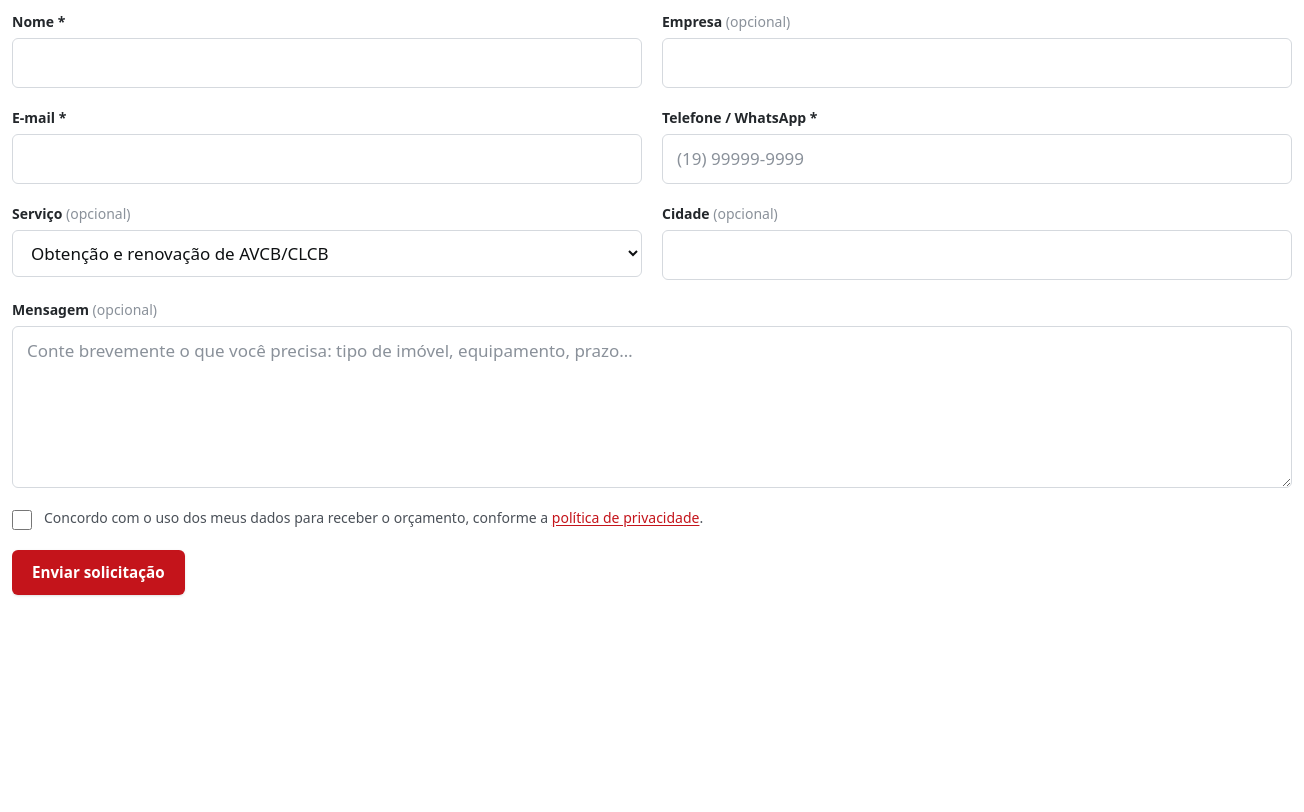
Scenario: QuoteForm › posts to Web3Forms and shows success
This screenshot has width=1304, height=812.
Type "Maria Silva" into the field labelled "Nome *" at (327, 63), box 12,38 -> 642,88
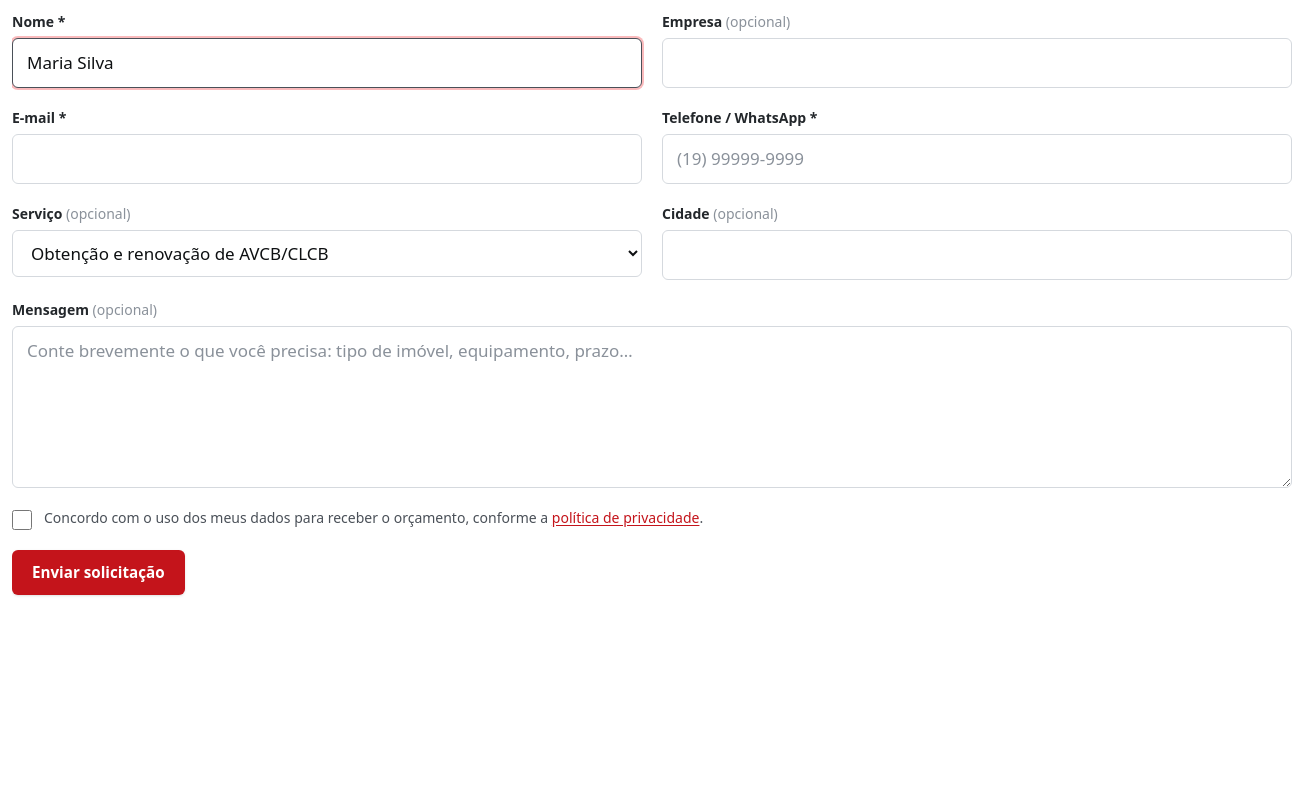
Type "maria@empresa.com.br" into the field labelled "E-mail *" at (327, 159), box 12,134 -> 642,184
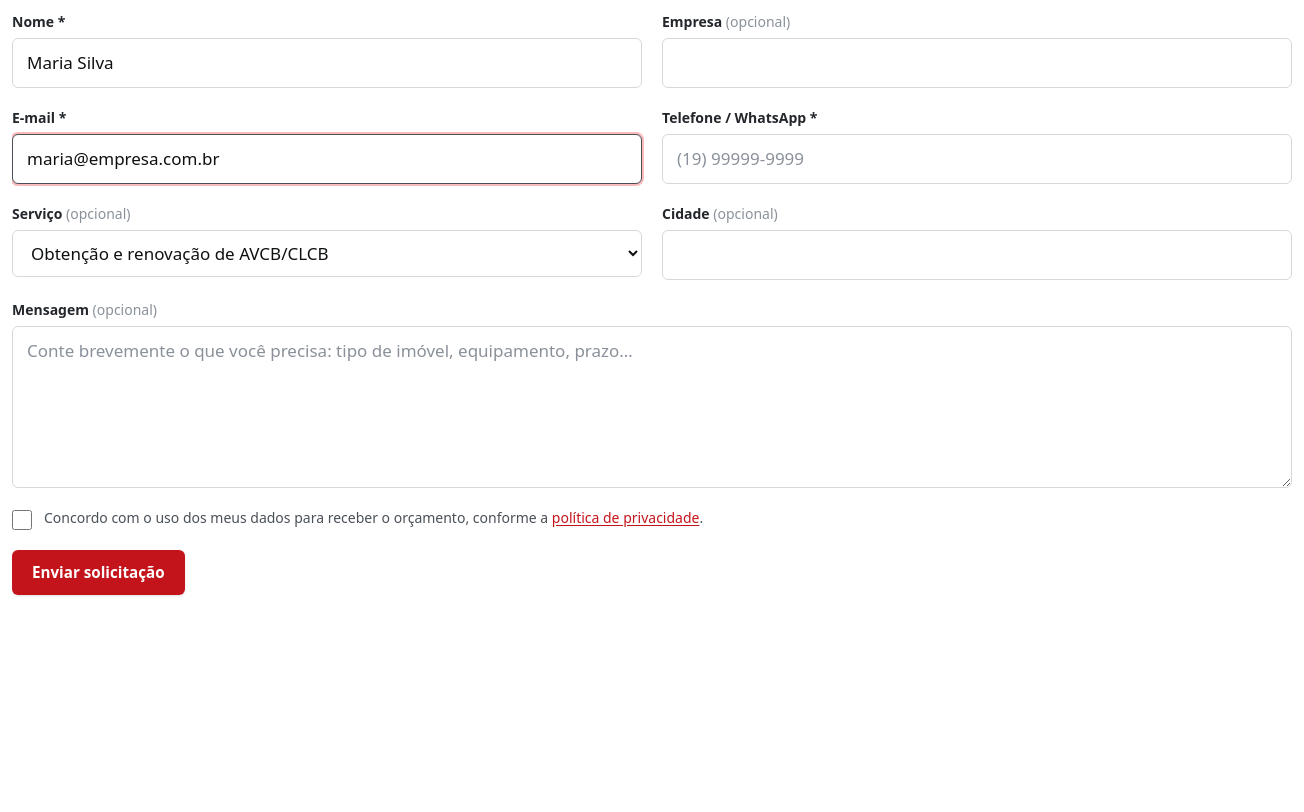
Type "(19) 99999-0000" into the field labelled "Telefone / WhatsApp *" at (977, 159), box 662,134 -> 1292,184
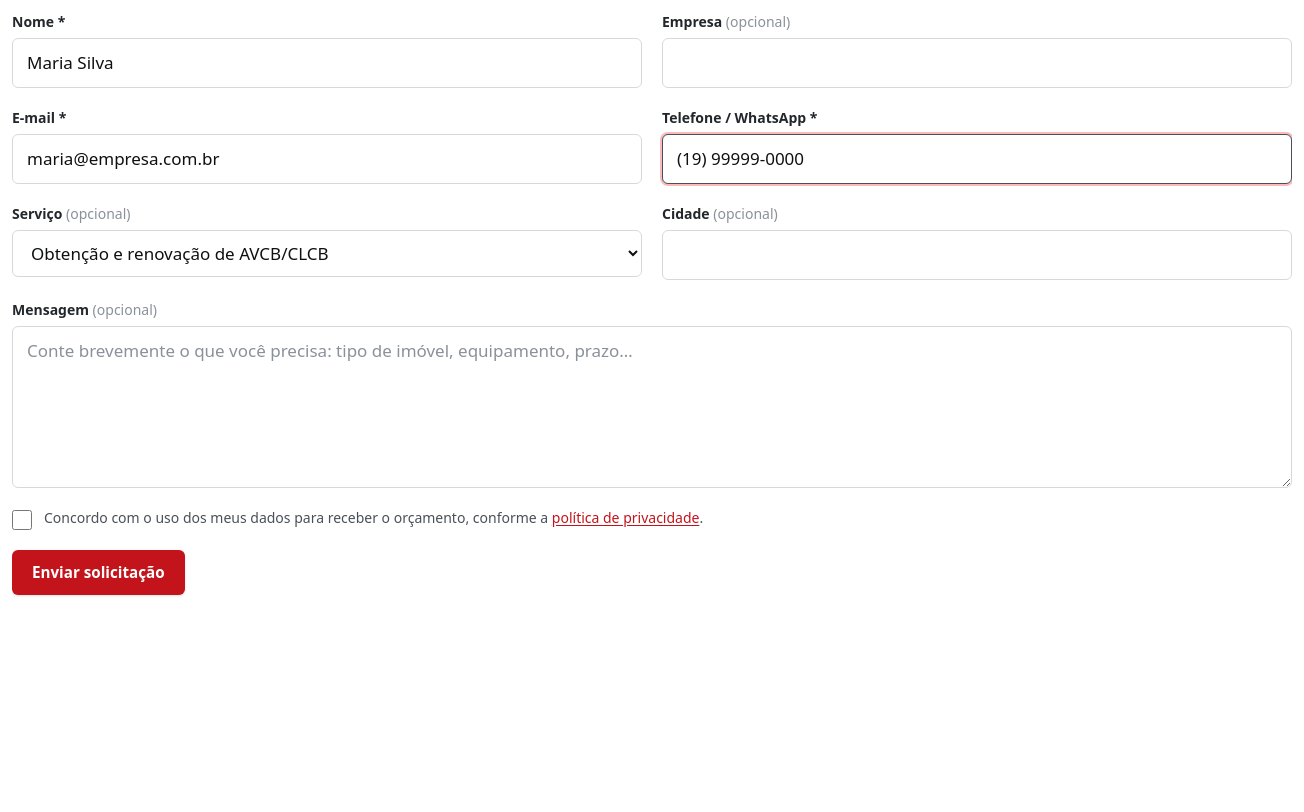
Click the checkbox labelled "Concordo" at (22, 520), box 12,510 -> 32,530
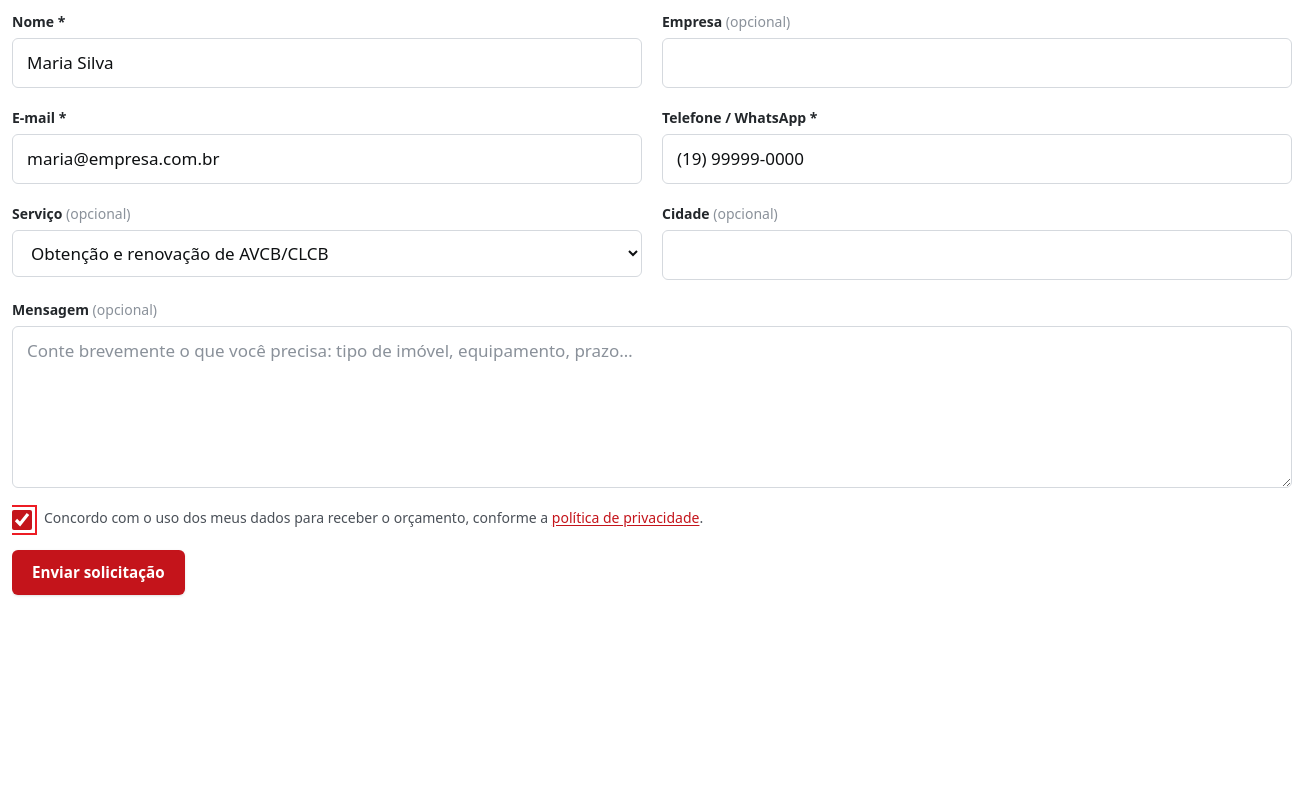
Click the button "Enviar solicitação" at (98, 573), box 12,550 -> 185,596
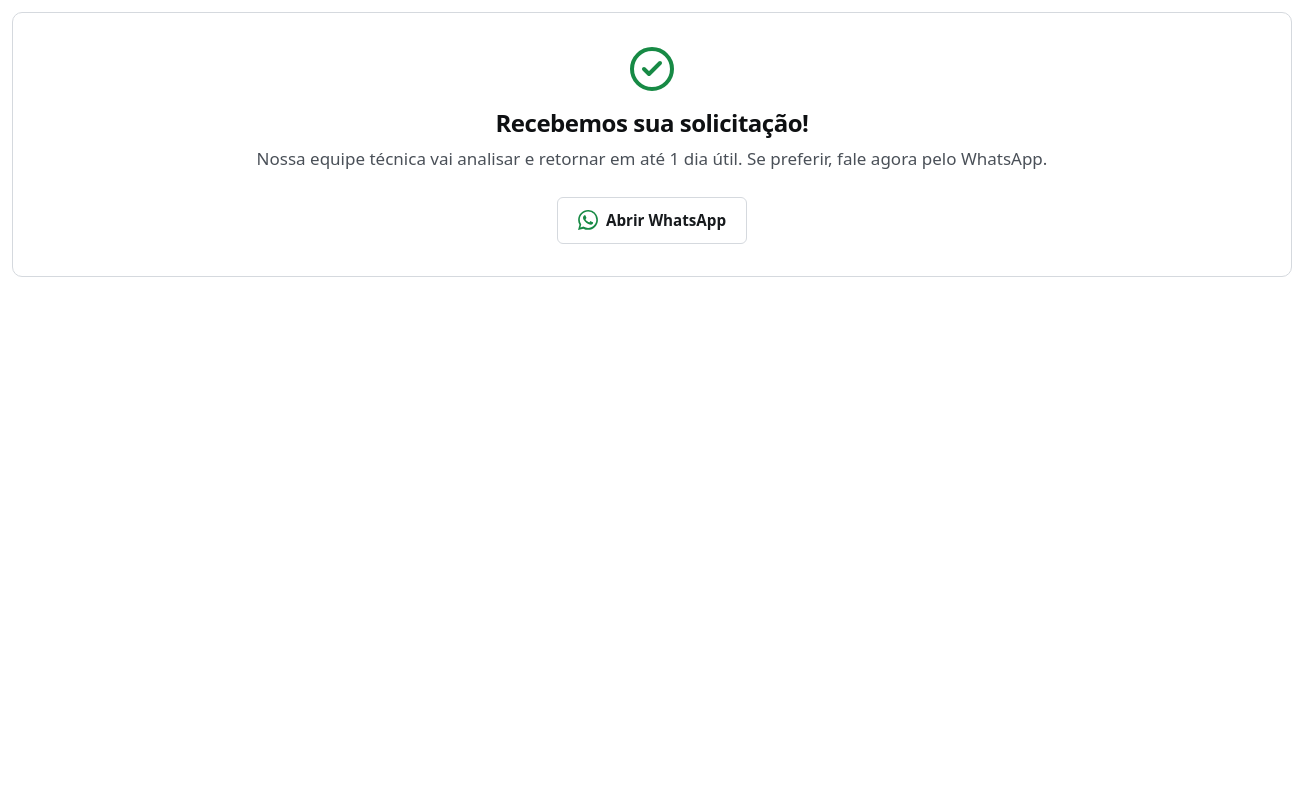
Check: the message shows "Recebemos sua solicitação", box 496,106 -> 808,139
